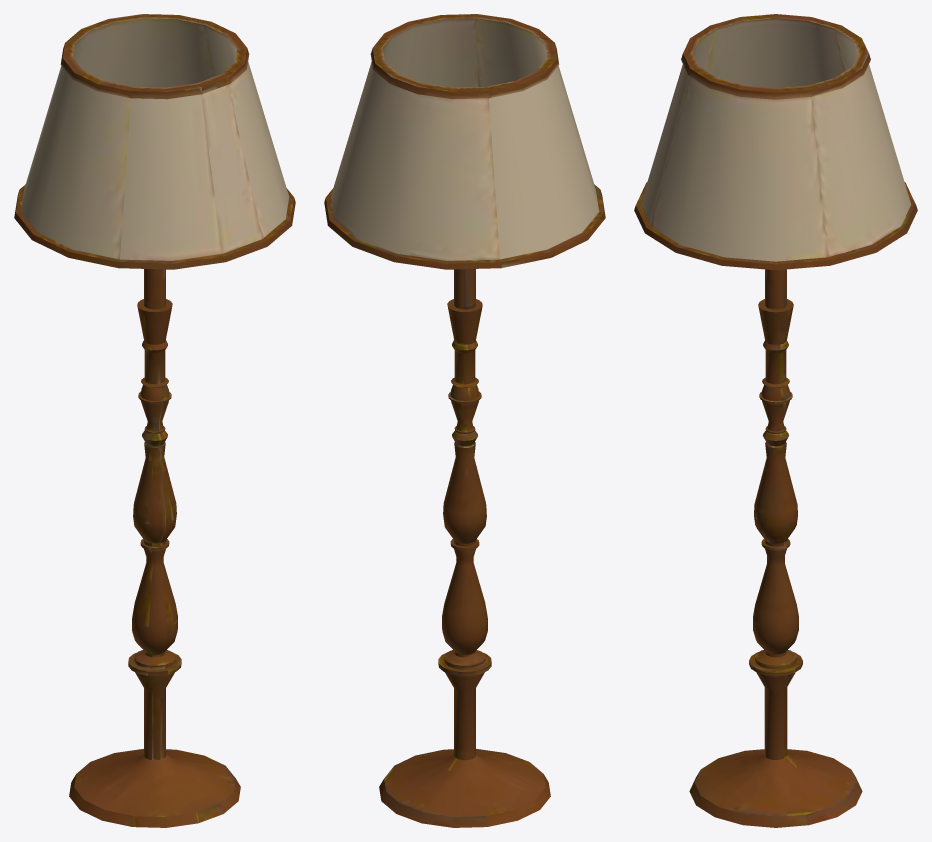
The model's file is floor-lamp--2.gltf.
The picture shows the model from 3 angles, left to right: view 1: azimuth 30°, elevation 25°; view 2: azimuth 150°, elevation 25°; view 3: azimuth 270°, elevation 25°; orthographic projection.
Visible parts, largest first — view 1: lamp.001; view 2: lamp.001; view 3: lamp.001.
Part boxes in pixels (bbox=[...]): lamp.001: bbox=[14, 14, 295, 827]; lamp.001: bbox=[324, 14, 605, 827]; lamp.001: bbox=[634, 14, 917, 827].
Size of the model in its own units: 0.5923 by 1.7 by 0.5923.
1 material, 1 textured.
